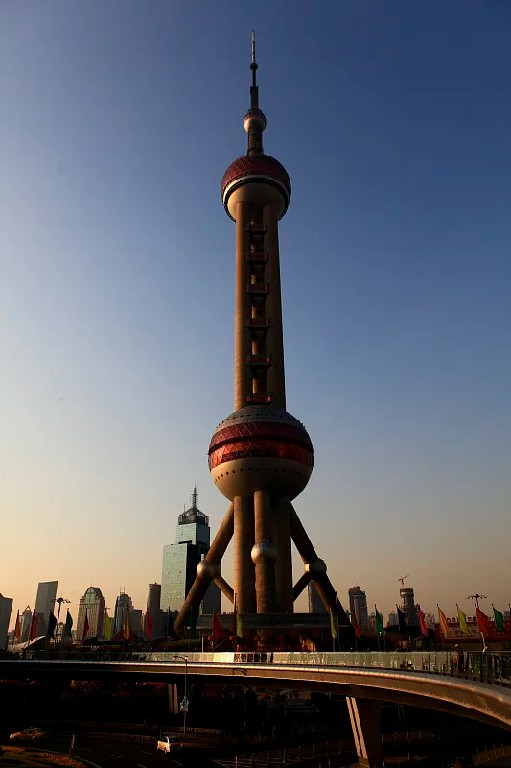Oriental: (172, 30, 357, 630)
